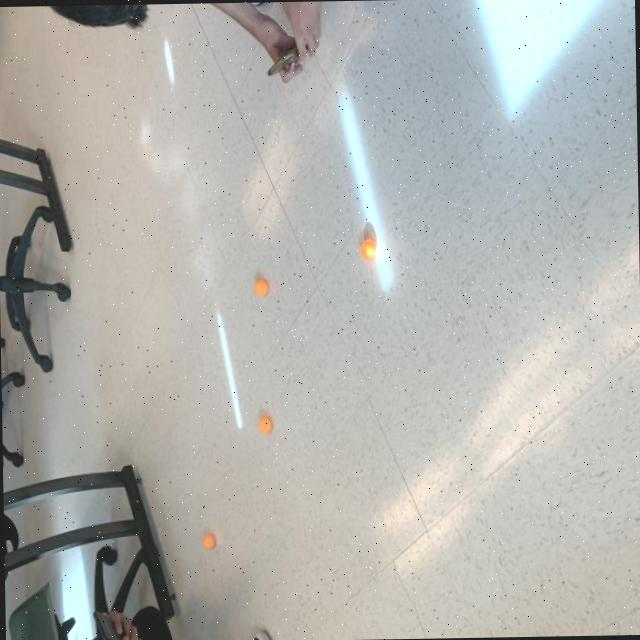ping-pong-ball: (358, 235, 378, 260), (256, 412, 272, 436), (252, 277, 268, 297), (202, 530, 216, 550)
